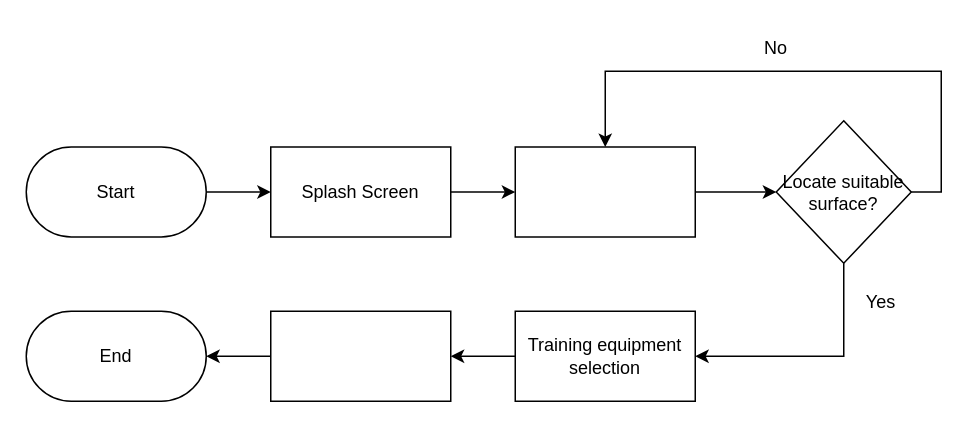
The diagram is 980 pixels wide and 428 high, and some of its shapes have lost their labels. Here are the shapes that lost their labels. From the top down, the box of each, then its label:
(514, 146, 695, 237): AR experience begins
(269, 310, 451, 401): Camera placed on suitable surface
